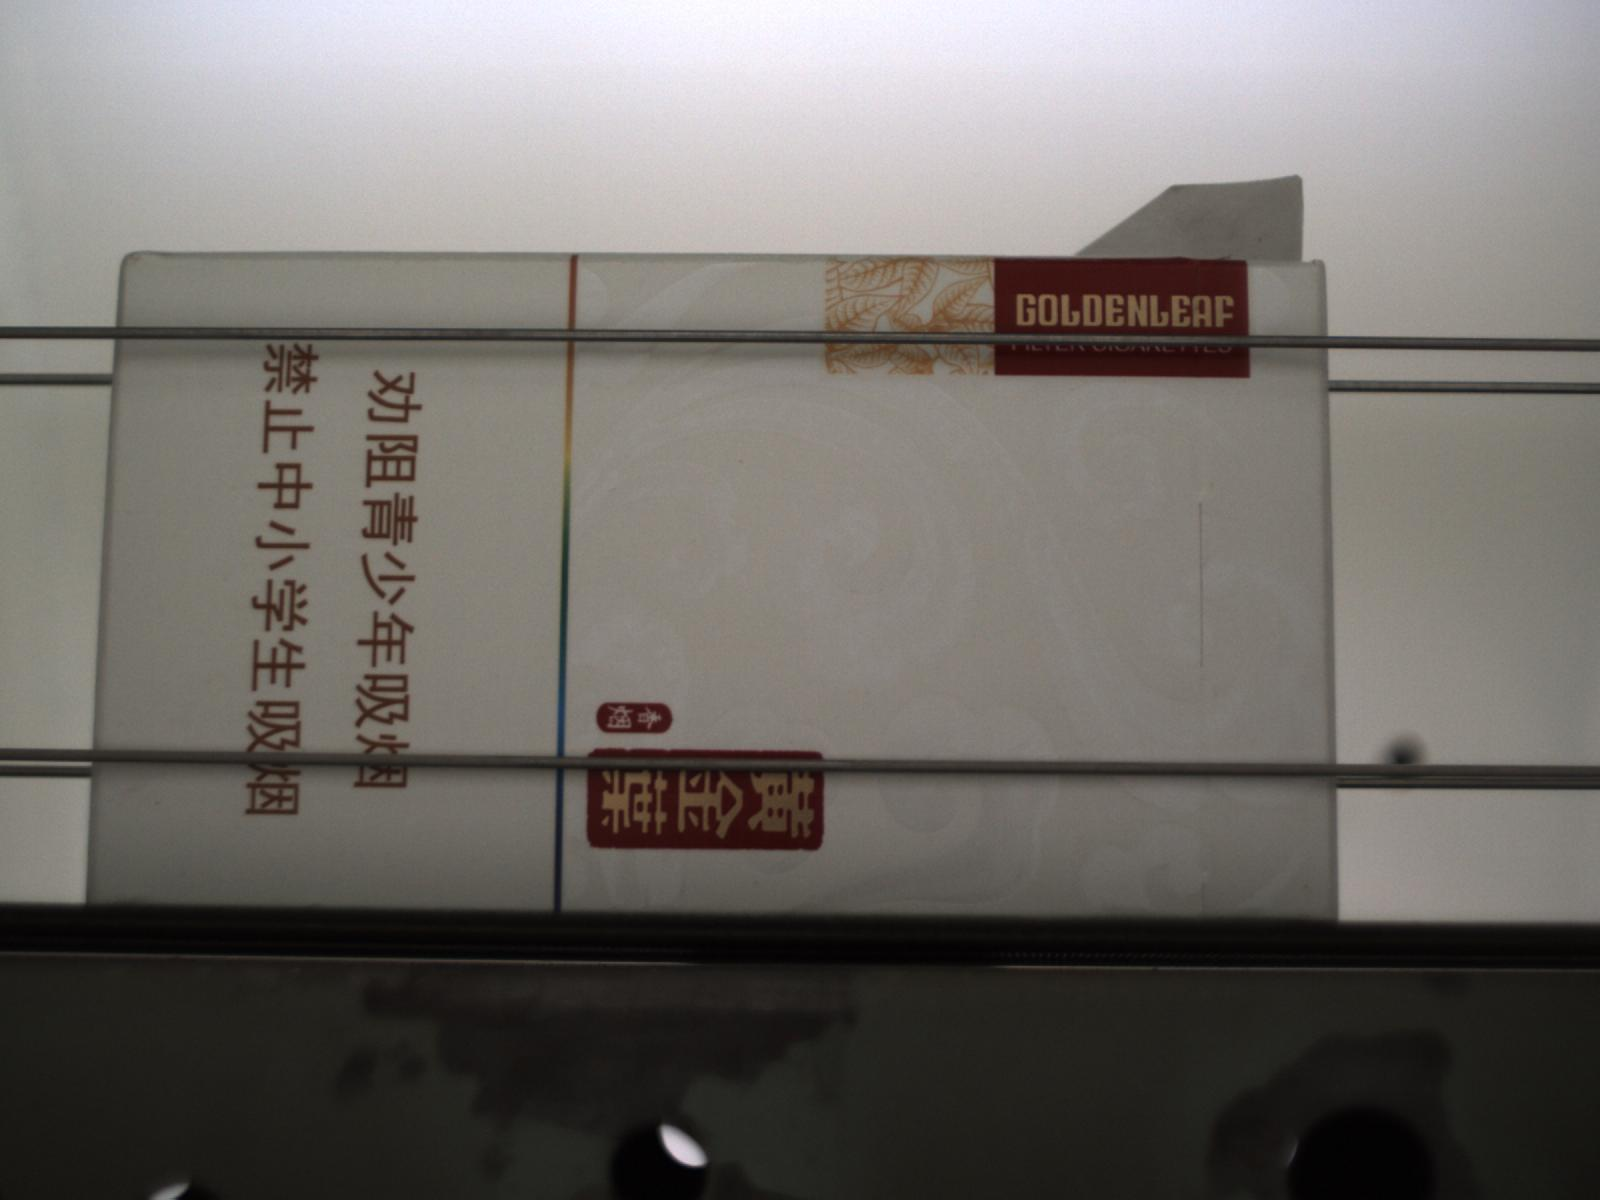headUpwarp_upper_01: (1070, 172, 1307, 262)
